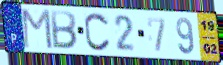2: (113, 13, 137, 52)
7: (147, 17, 167, 53)
9: (175, 16, 196, 57)
B: (50, 9, 79, 51)
C: (83, 11, 112, 53)
M: (21, 8, 54, 51)
